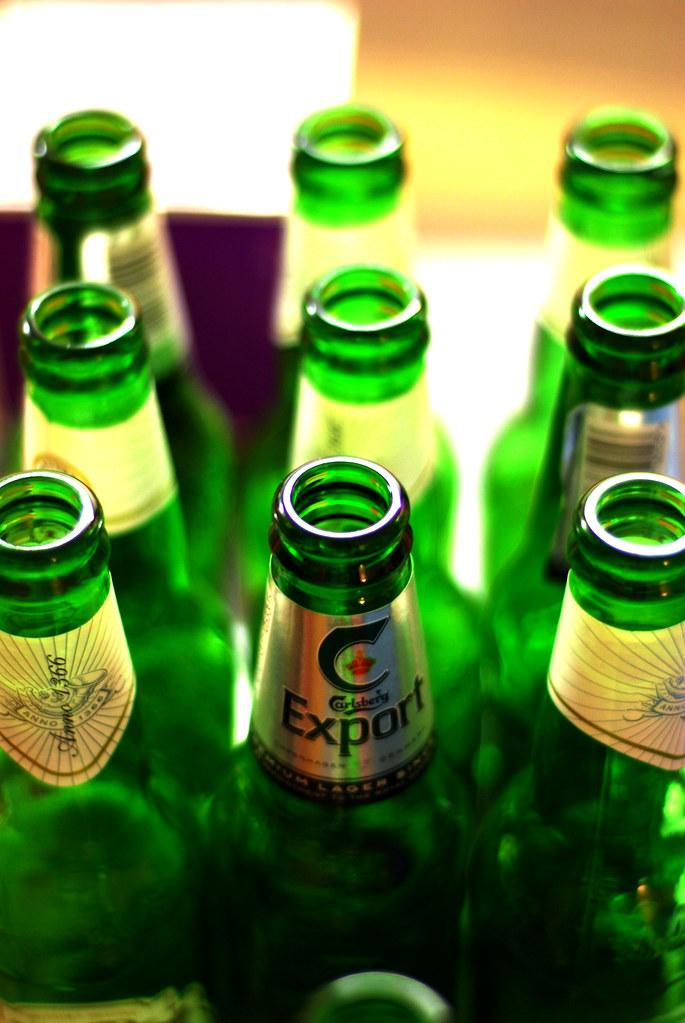bottle: (200, 455, 474, 1022), (239, 263, 484, 784), (461, 471, 685, 1022), (16, 280, 241, 813), (473, 264, 685, 815), (1, 468, 211, 1021), (27, 108, 242, 608), (478, 106, 681, 595), (271, 103, 419, 352)
